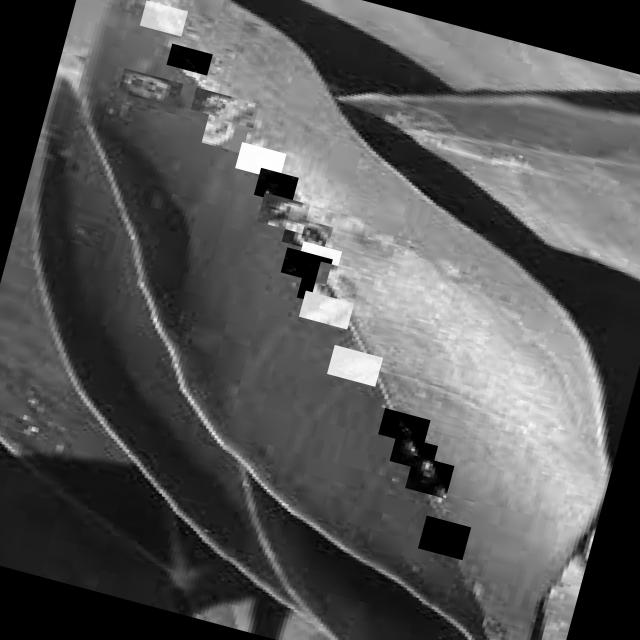scale_insect: (115, 67, 182, 114), (416, 514, 469, 560), (326, 344, 382, 386), (403, 455, 452, 499), (256, 192, 308, 233), (298, 290, 352, 329), (280, 215, 332, 253), (376, 408, 428, 446), (234, 142, 285, 180), (279, 247, 331, 284), (311, 261, 357, 302), (200, 114, 248, 153), (388, 434, 437, 472), (138, 0, 186, 36), (252, 167, 297, 204), (295, 271, 340, 307), (213, 93, 258, 128), (296, 240, 340, 274), (165, 43, 211, 75), (190, 86, 230, 118)
